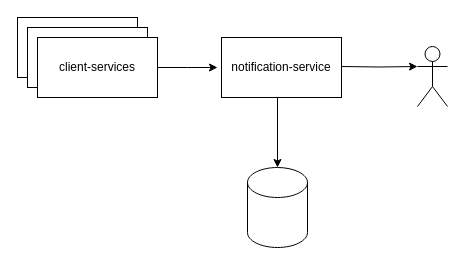
This 465x265 diagram has some shape labels left out. Each missing label, with the centre of its shape:
Actor: (432,76)
db: (277,207)
